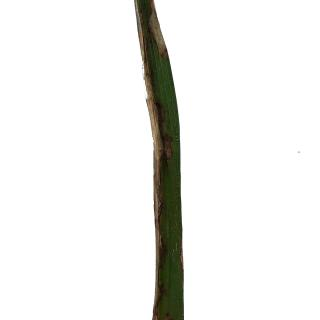Hawar-Daun: (149, 61, 171, 252), (130, 0, 169, 52)
